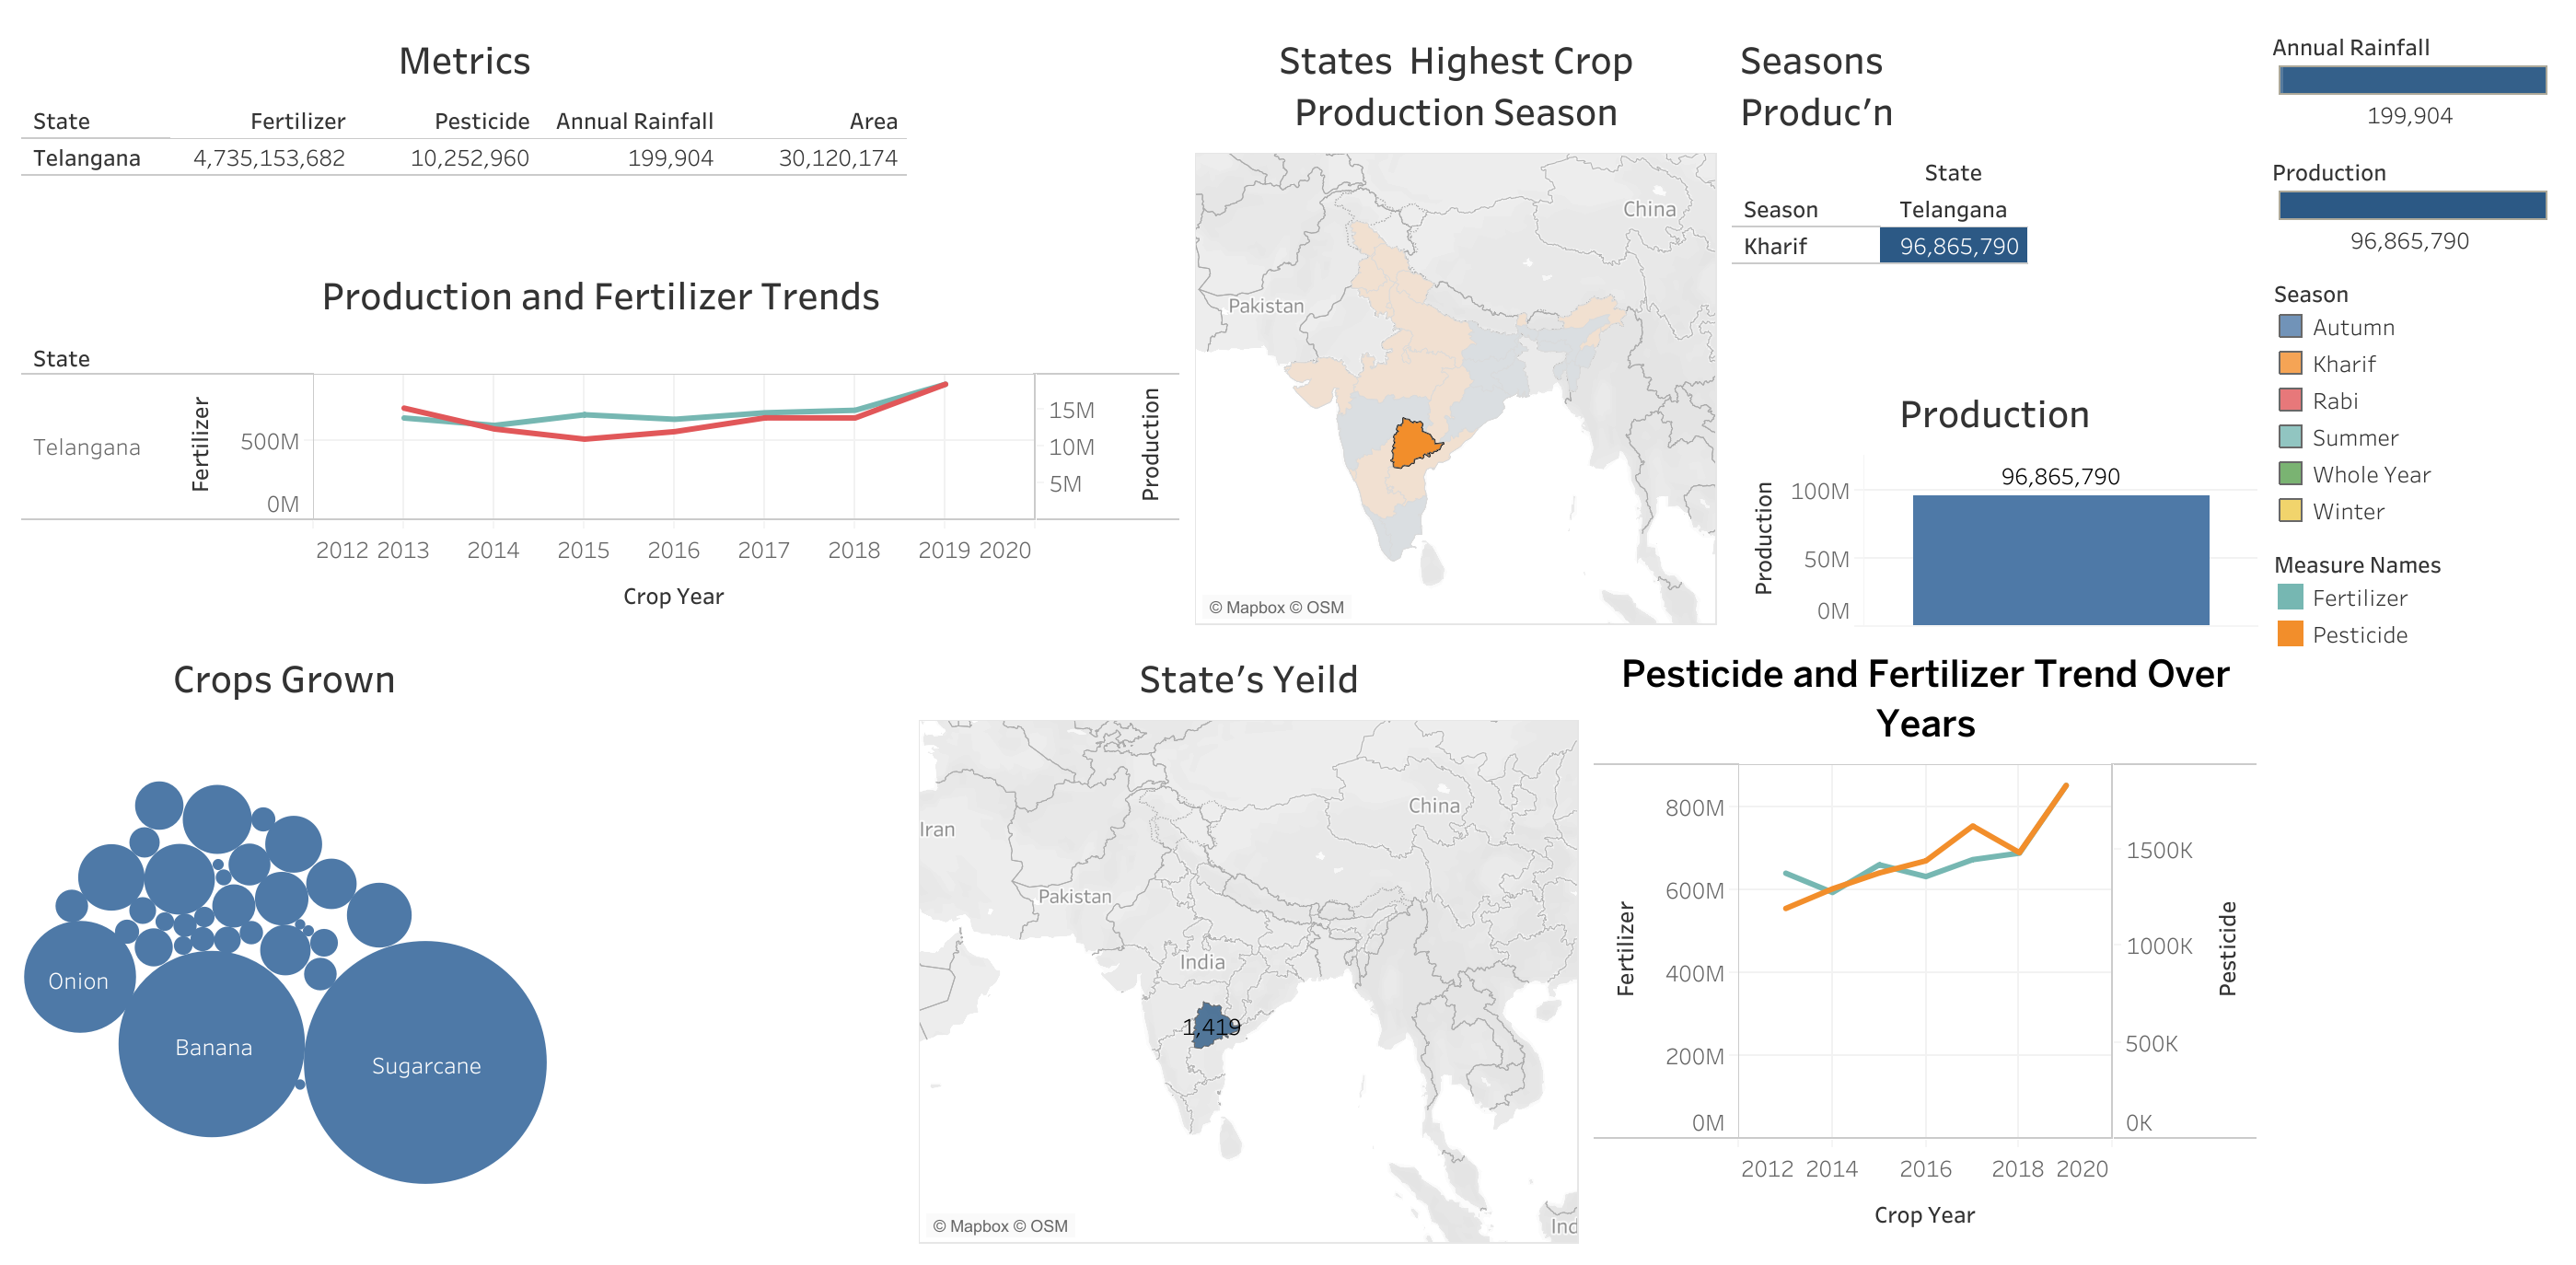

The page's visual inventory and layout, read from the dashboard file:
{"tool":"tableau","page":{"name":"Dashboard 1","canvas":[1000,1000],"units":"permille","ordinal":0},"visuals":[{"type":"worksheet","title":"Sheet 8","mark":"Automatic","rows":["State"],"box":[6.5,10.4,445.7,186.2]},{"type":"worksheet","title":"Sheet 9","mark":"Multipolygon","box":[452.2,10.4,204.7,489.6]},{"type":"worksheet","title":"Sheet 5","mark":"Square","rows":["Season"],"cols":["State"],"box":[657,10.4,204.7,279.9]},{"type":"legend","title":"Sheet 3","param":"[federated.09e08qn0i1ieq216bza360gr6hgy].[sum:Annual_Rainfall:qk]","box":[861.7,10.4,131.8,84.6]},{"type":"legend","title":"Sheet 5","param":"[federated.09e08qn0i1ieq216bza360gr6hgy].[sum:Production:qk]","box":[861.7,95.1,131.8,84.6]},{"type":"legend","title":"Sheet 9","param":"[federated.09e08qn0i1ieq216bza360gr6hgy].[none:Season:nk]","box":[861.7,179.7,131.8,190.1]},{"type":"worksheet","title":"Sheet 12","mark":"Automatic","rows":["State","Fertilizer","Production"],"cols":["Crop_Year"],"box":[6.5,196.6,445.7,303.4]},{"type":"worksheet","title":"Sheet 2","mark":"Automatic","rows":["Production"],"box":[657,290.4,204.7,209.6]},{"type":"legend","title":"Sheet 11","param":"[federated.09e08qn0i1ieq216bza360gr6hgy].[:Measure Names]","box":[861.7,369.8,131.8,85.9]},{"type":"worksheet","title":"Sheet 1","mark":"Circle","box":[6.5,500,340.9,489.6]},{"type":"worksheet","title":"Sheet 3","mark":"Automatic","box":[347.4,500,257.1,489.6]},{"type":"worksheet","title":"Sheet 11","mark":"Automatic","rows":["Fertilizer","Pesticide"],"cols":["Crop_Year"],"box":[604.5,500,257.2,489.6]}]}

Visuals, with their boxes on the dashboard's canvas, which has no fixed pixel size, in thousandths of its width and height (x1, y1, x2, y2). These are canvas units, not pixel positions in the 2576x1265 screenshot, which may show the page scaled, cropped or inside an application window:
"Sheet 8" worksheet: <box>6,10,452,197</box>
"Sheet 9" worksheet (Multipolygon marks): <box>452,10,657,500</box>
"Sheet 5" worksheet (Square marks): <box>657,10,862,290</box>
"Sheet 3" legend: <box>862,10,994,95</box>
"Sheet 5" legend: <box>862,95,994,180</box>
"Sheet 9" legend: <box>862,180,994,370</box>
"Sheet 12" worksheet: <box>6,197,452,500</box>
"Sheet 2" worksheet: <box>657,290,862,500</box>
"Sheet 11" legend: <box>862,370,994,456</box>
"Sheet 1" worksheet (Circle marks): <box>6,500,347,990</box>
"Sheet 3" worksheet: <box>347,500,604,990</box>
"Sheet 11" worksheet: <box>604,500,862,990</box>
